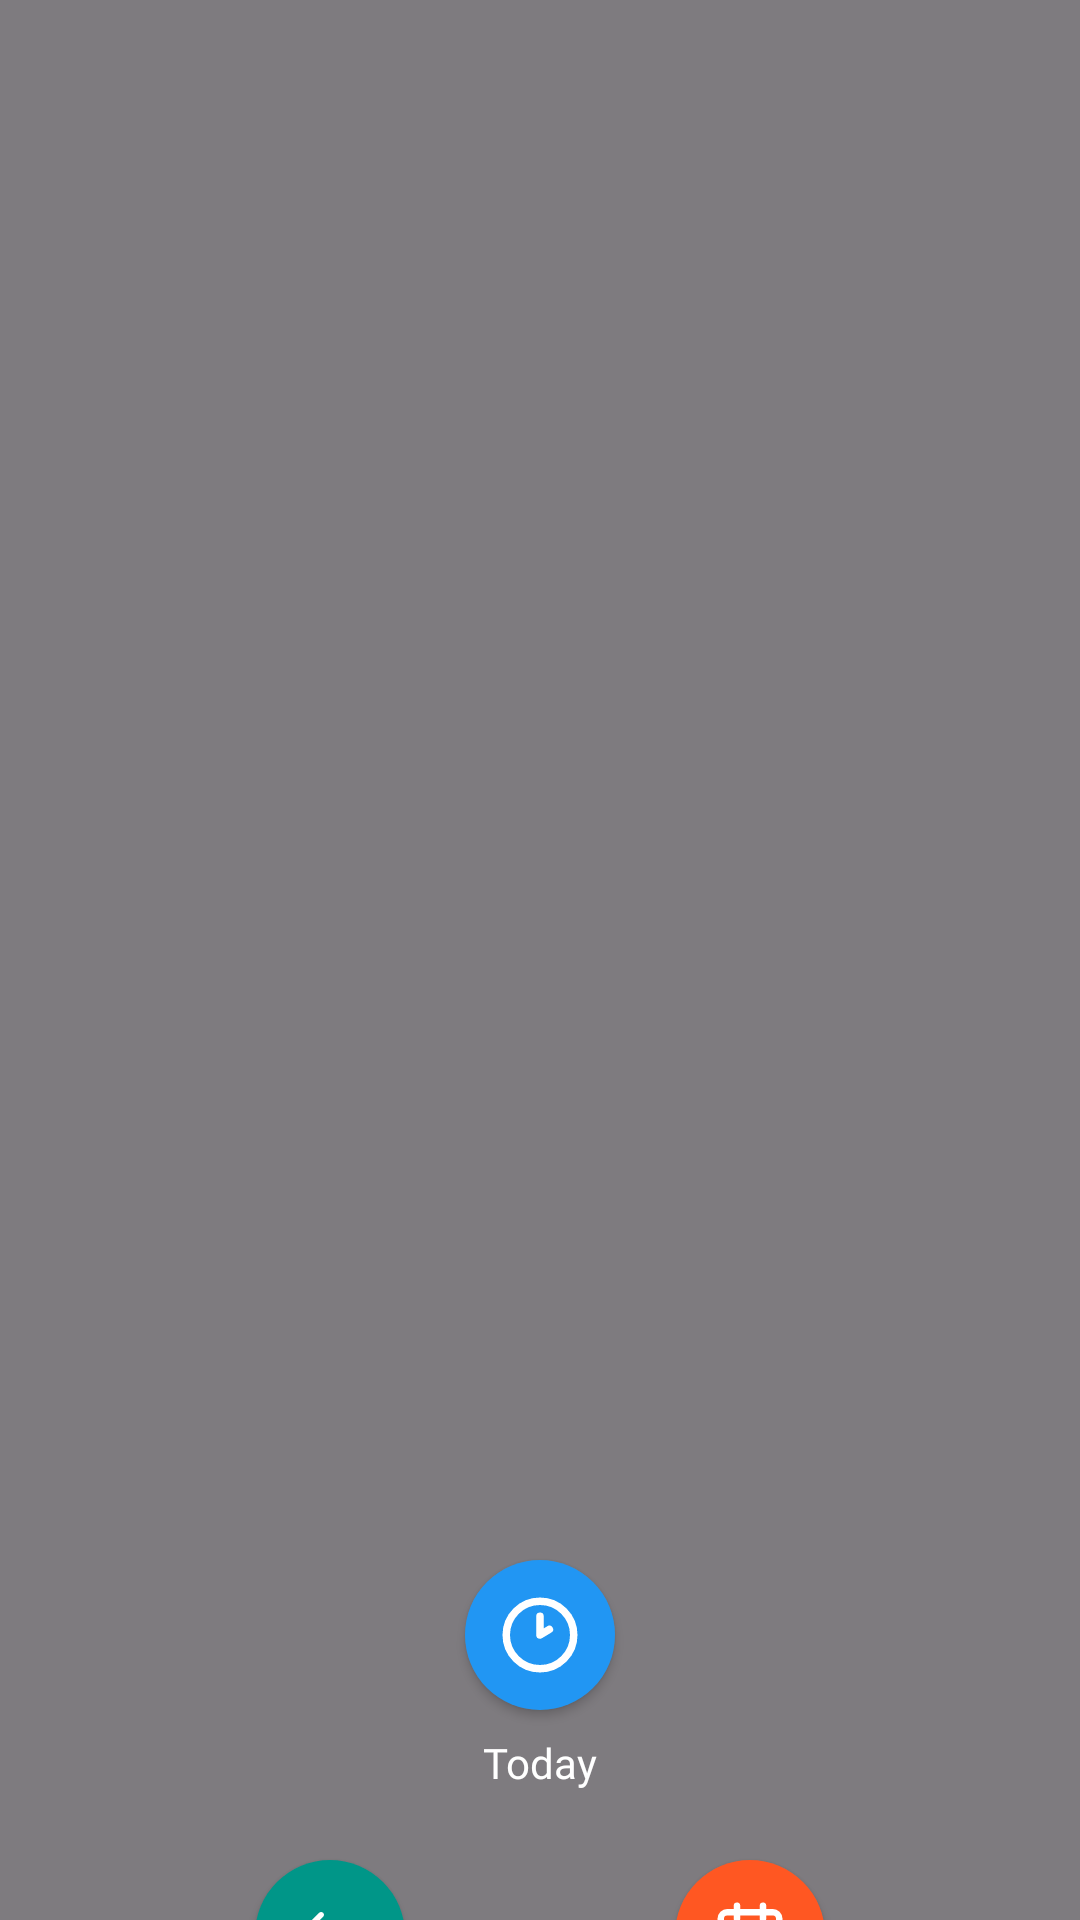

Icon bounding boxes for this 1080x1920 phone screenshot, format [x1,y1,x2,y2]:
clock: [465,1560,615,1710]
